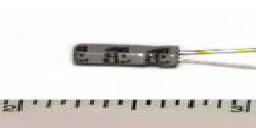Electrolytic Capacitor: (69, 34, 256, 79)
